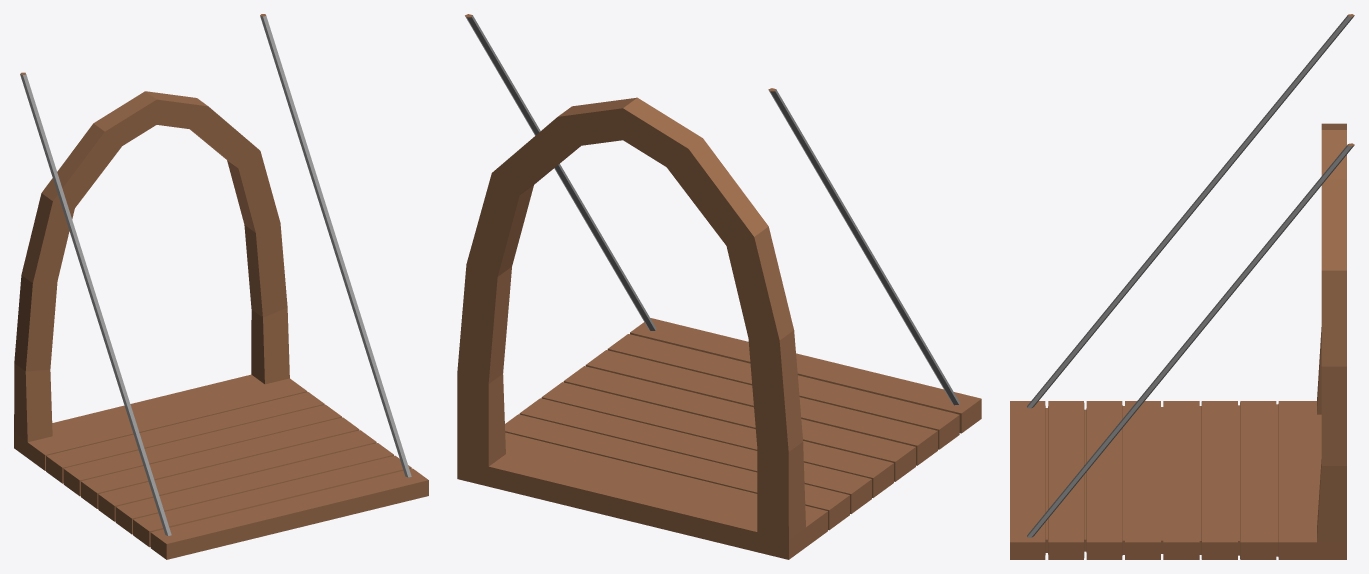
Rendered from Bridge Gate.glb.
3 renders of one model, left to right at view 1: azimuth 30°, elevation 25°; view 2: azimuth 150°, elevation 25°; view 3: azimuth 270°, elevation 25°, orthographic. The views are drawn at different scales.
Parts seen in each view (by area): view 1: Bridge.002; view 2: Bridge.002; view 3: Bridge.002.
Part boxes in pixels (bbox=[...]): Bridge.002: bbox=[14, 14, 428, 559]; Bridge.002: bbox=[457, 14, 981, 559]; Bridge.002: bbox=[1010, 14, 1354, 559].
Bounding box in the file's own units: 0.8842 × 1.19 × 0.912.
